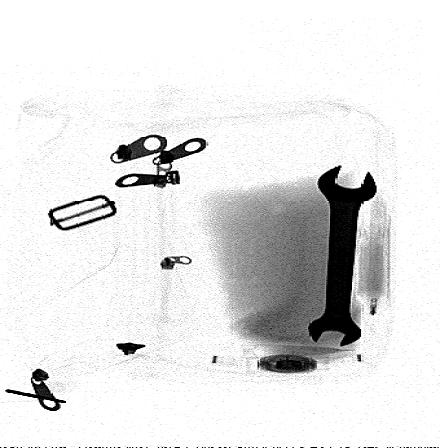Wrench: (304, 162, 378, 349)
